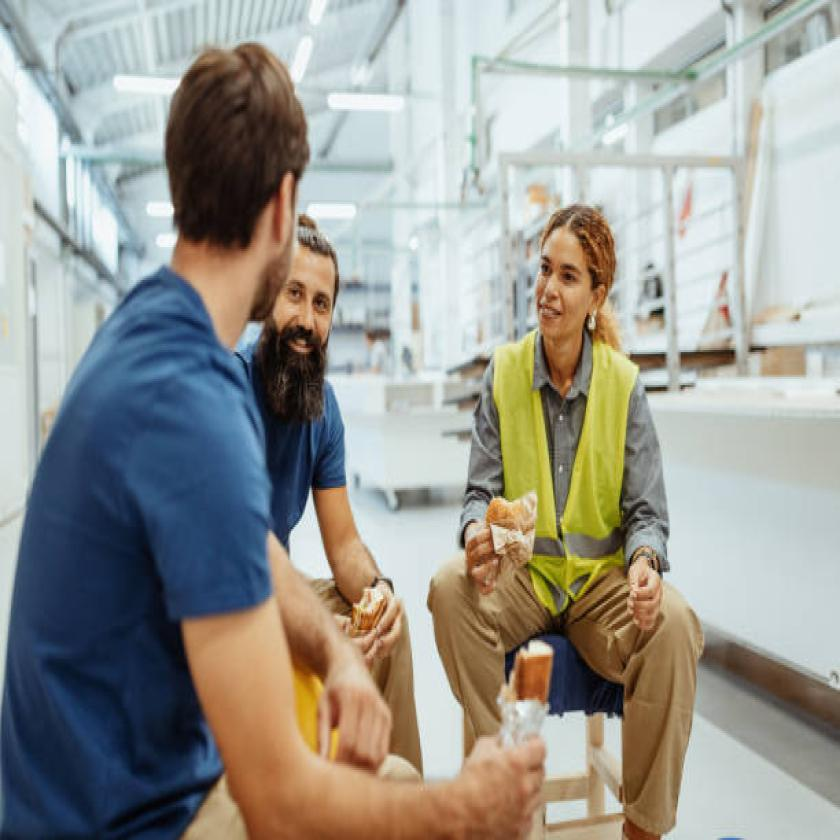Sin_casco: (159, 40, 309, 338), (511, 188, 632, 360), (268, 217, 354, 390)
